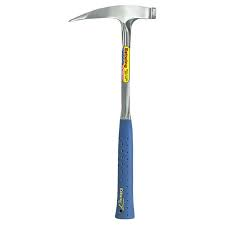hammer: (68, 4, 157, 220)
